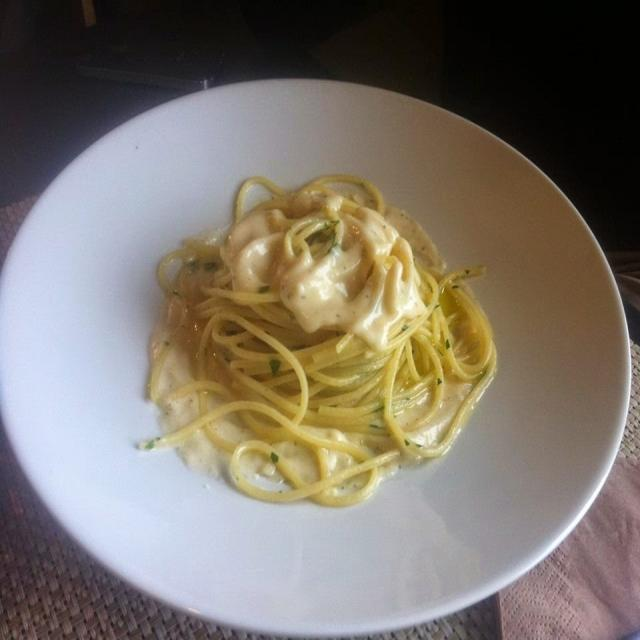Oil pasta: (71, 137, 553, 521)
